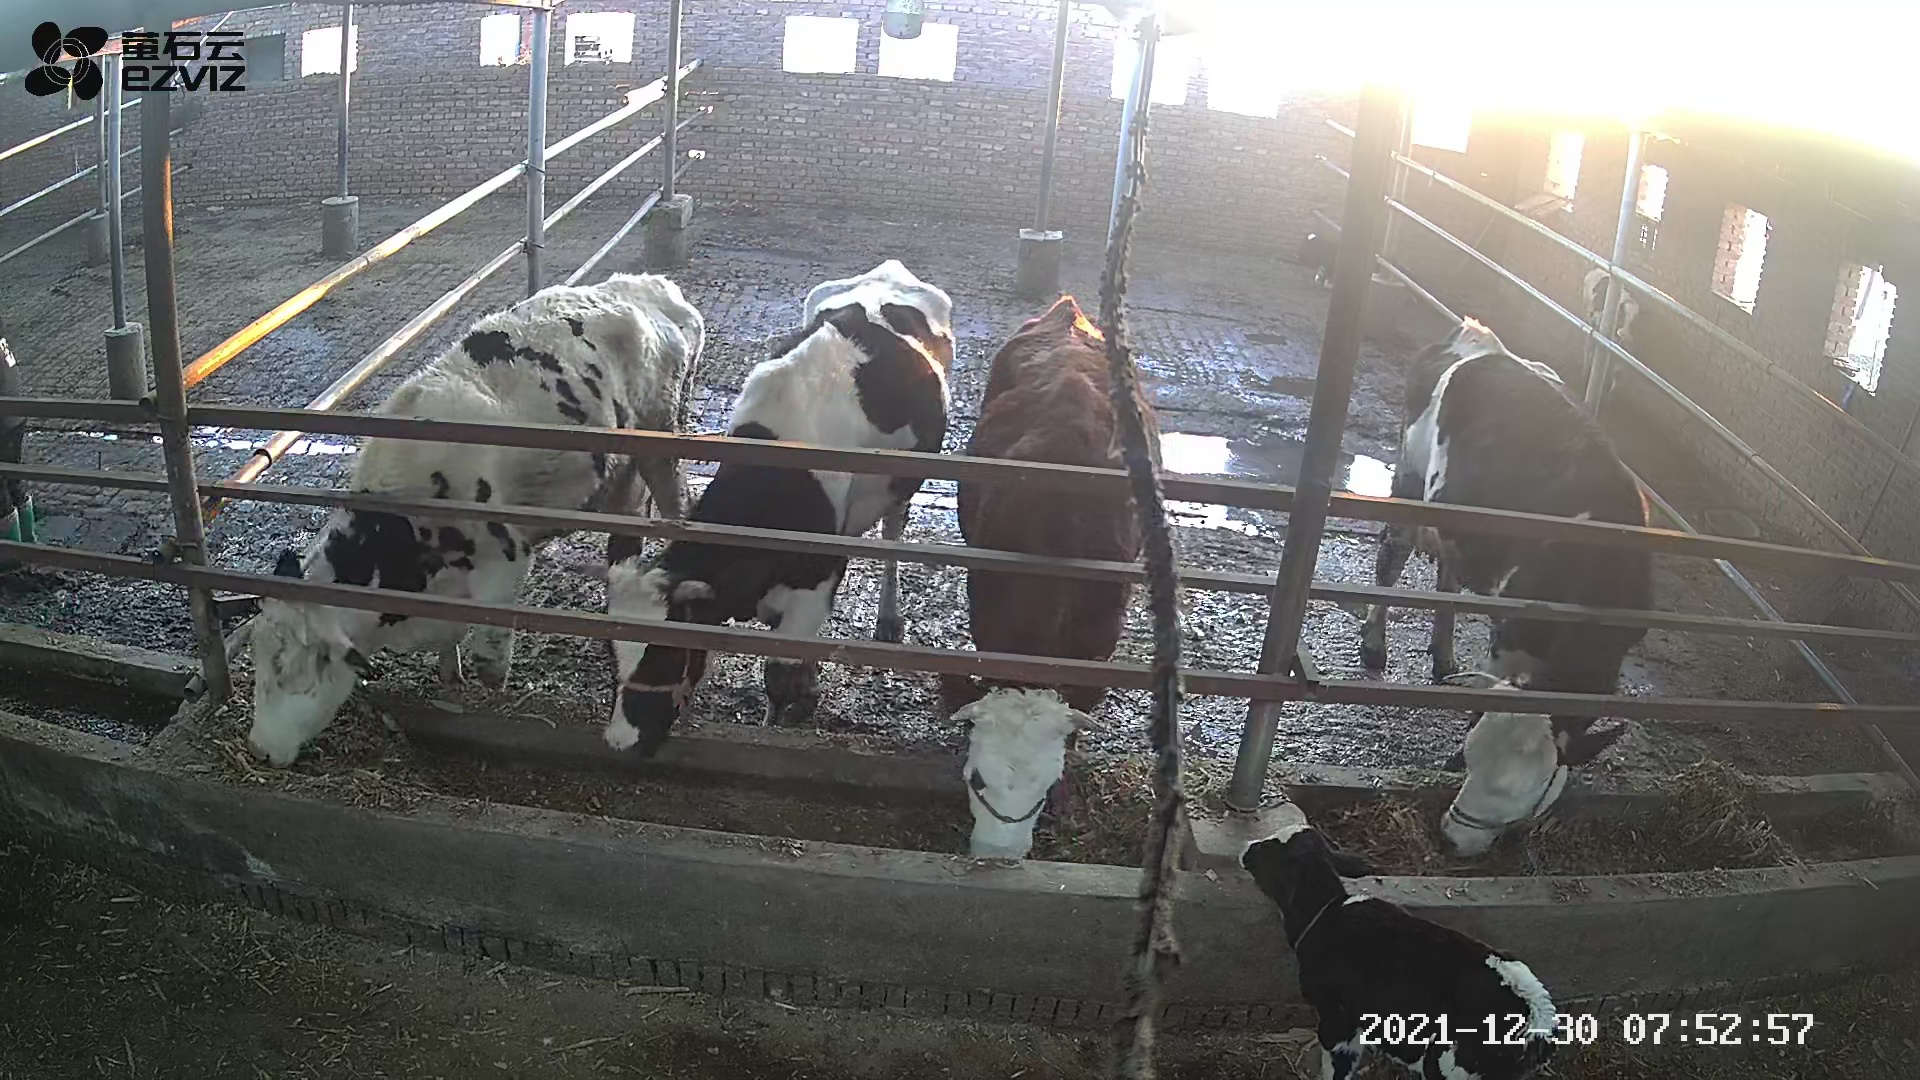cow: (244, 268, 703, 771), (597, 256, 956, 764), (1357, 313, 1654, 860), (948, 293, 1160, 862)
